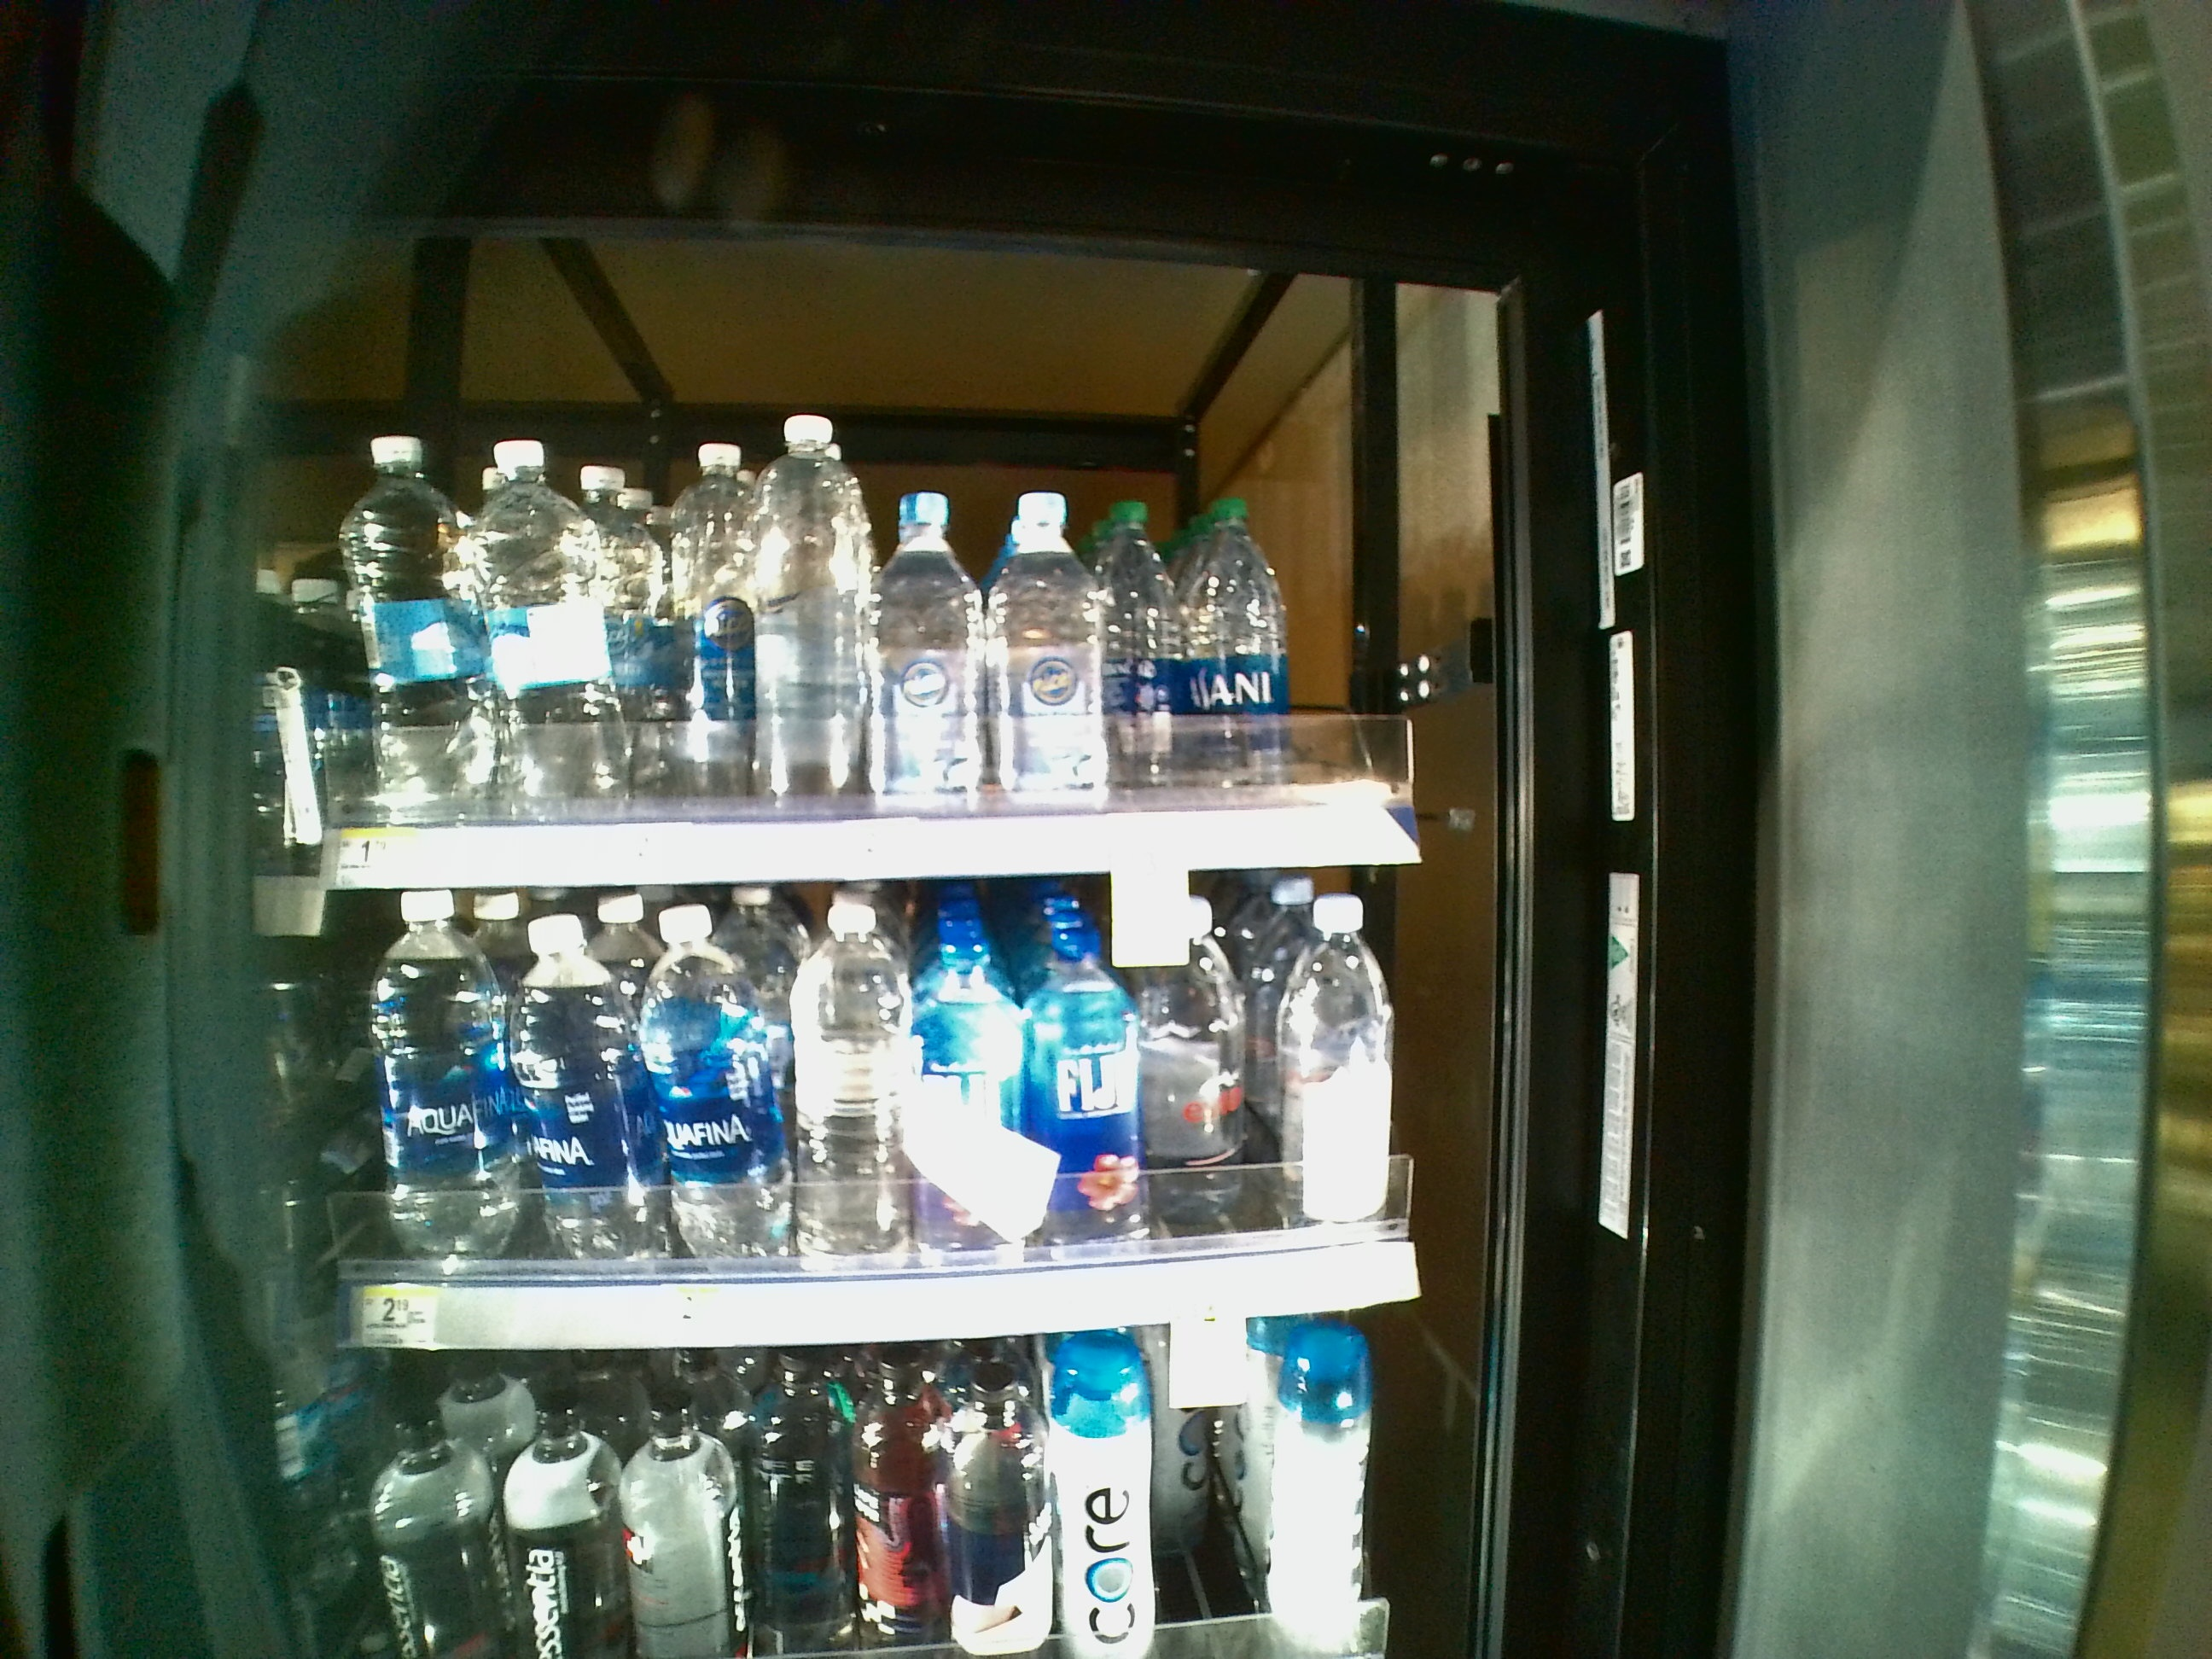shelf: (263, 342, 1491, 873), (261, 868, 1501, 1354)
